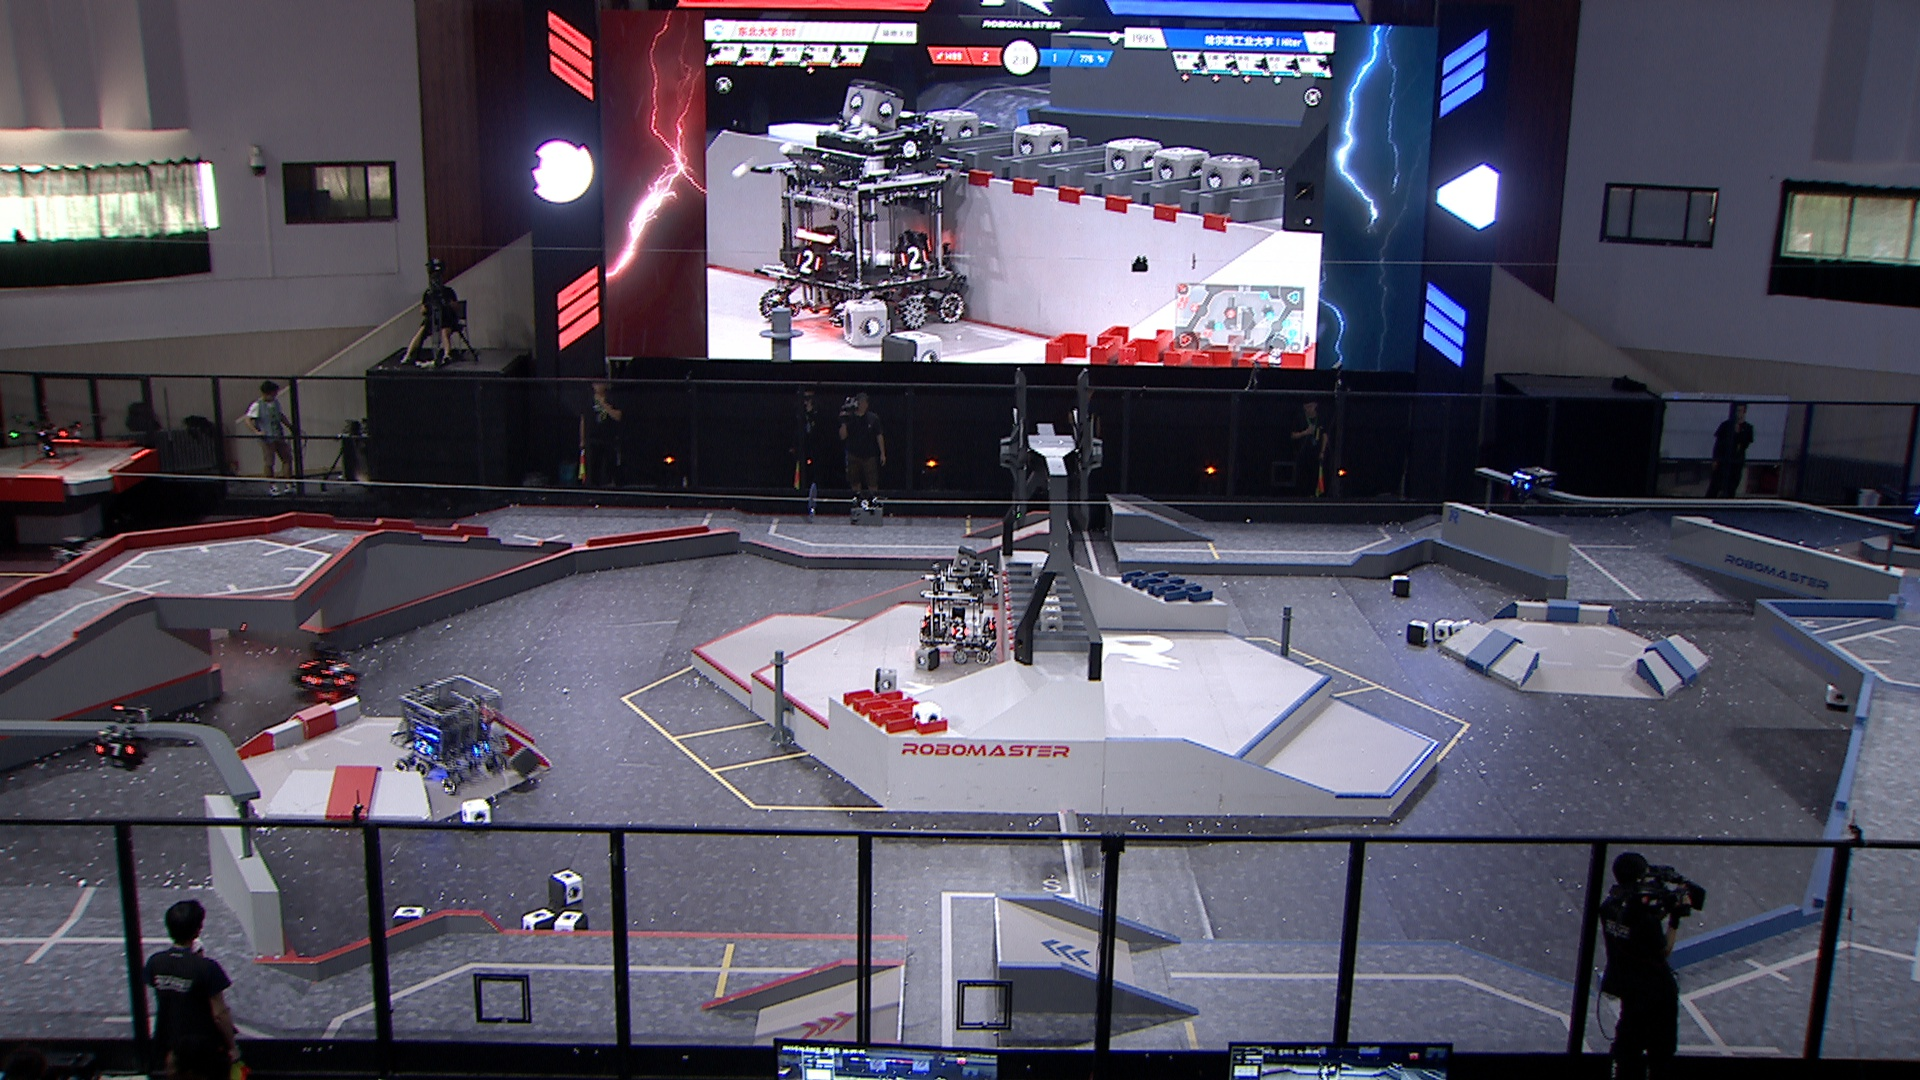armor: (95, 741, 138, 760), (332, 673, 356, 688), (1509, 477, 1531, 493), (469, 740, 491, 756), (413, 738, 433, 754), (949, 624, 969, 638), (323, 662, 342, 676), (299, 673, 320, 684)
car: (386, 674, 512, 793), (920, 560, 1000, 669), (287, 637, 363, 700)
ignore: (750, 117, 969, 339)
watcher: (90, 700, 154, 773), (1509, 465, 1555, 502)
